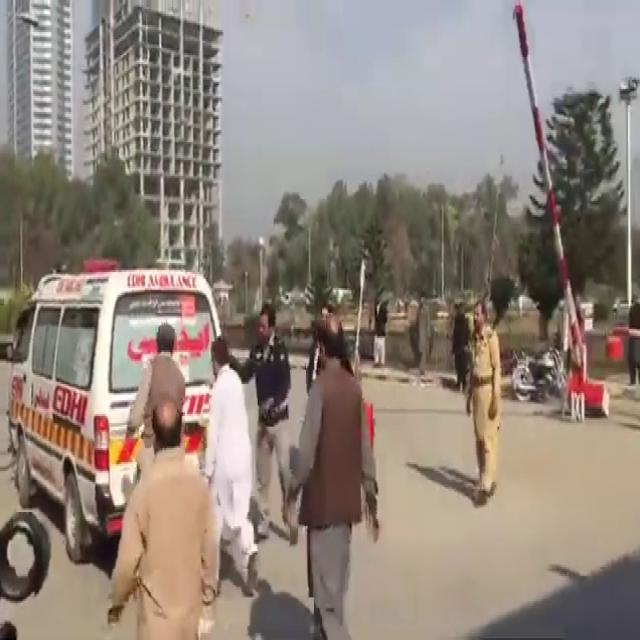ambulance: (18, 272, 245, 544)
